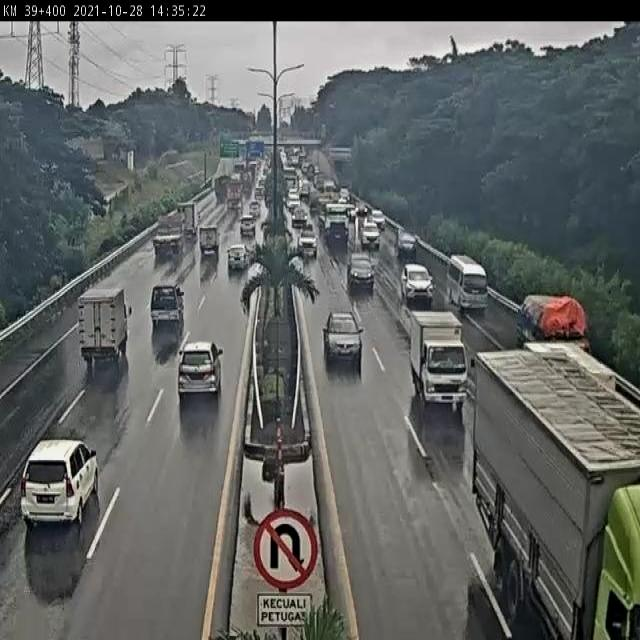Bus: (446, 254, 488, 308)
Car: (20, 436, 99, 525), (175, 342, 222, 400), (323, 310, 363, 360), (150, 283, 187, 328), (399, 264, 435, 303), (348, 254, 375, 289), (227, 244, 246, 272)
Truck: (474, 344, 640, 640), (410, 311, 469, 405), (77, 285, 129, 364), (154, 216, 186, 252), (200, 226, 220, 251)
